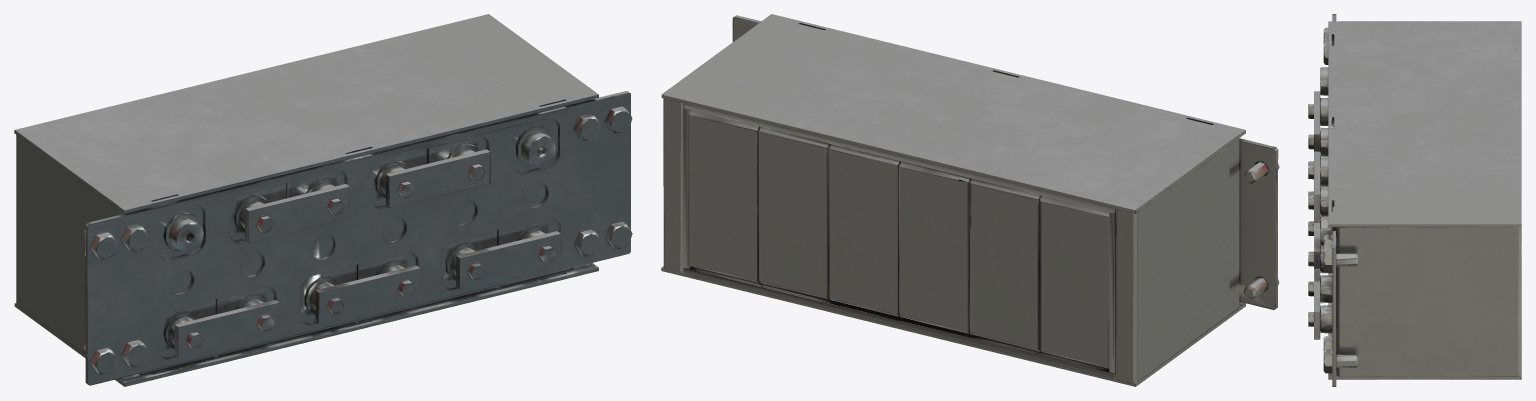
Rendered from battery_module.obj.
The picture shows the model from 3 angles, left to right: view 1: azimuth 30°, elevation 25°; view 2: azimuth 150°, elevation 25°; view 3: azimuth 270°, elevation 25°; orthographic projection. The views are drawn at different scales.
Parts seen in each view (by area): view 1: battery_module; view 2: battery_module; view 3: battery_module.
Part boxes in pixels (left/top/right/bottom): battery_module: left=14, top=14, right=632, bottom=386; battery_module: left=661, top=14, right=1279, bottom=386; battery_module: left=1308, top=14, right=1521, bottom=386.
Size of the model in its own units: 0.3449 by 0.1071 by 0.1336.
1 material, 1 textured.
